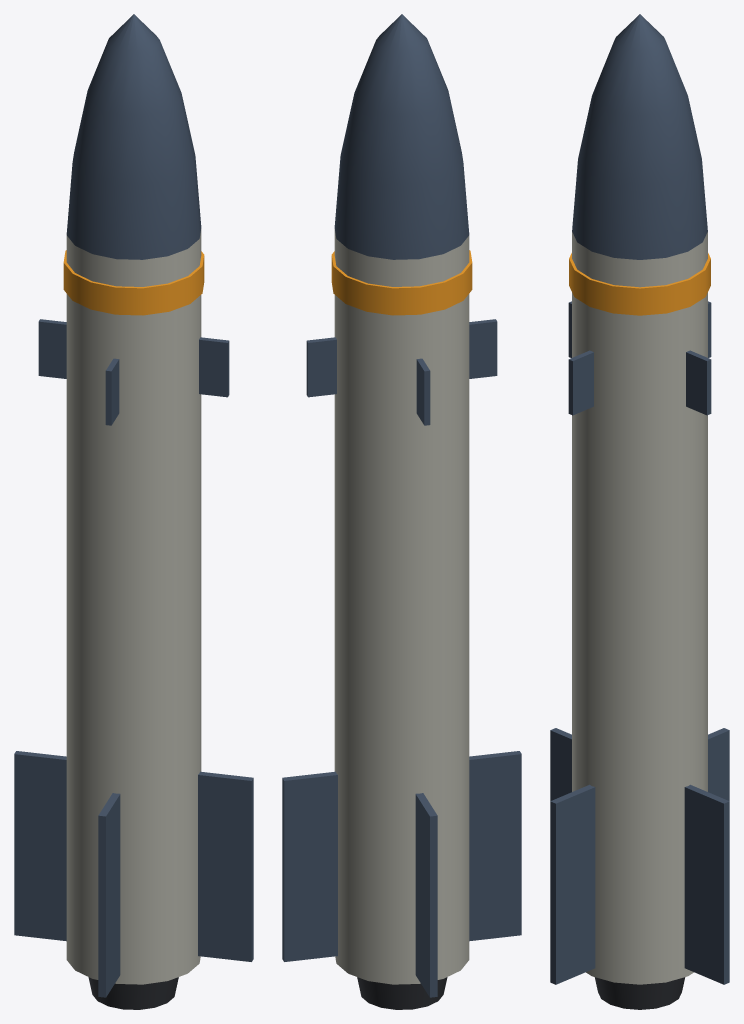
Rendered from mp8_missile_1.obj.
3 views of the same model, side by side, from view 1: azimuth 30°, elevation 25°; view 2: azimuth 150°, elevation 25°; view 3: azimuth 270°, elevation 25° (orthographic).
Visible parts, largest first — view 1: mp8_missile_1; view 2: mp8_missile_1; view 3: mp8_missile_1.
Boxes of the visible parts, x1,y1,x2,y2 form: mp8_missile_1: (14, 14, 253, 1009); mp8_missile_1: (282, 14, 521, 1009); mp8_missile_1: (550, 14, 729, 1009).
Size of the model in its own units: 0.1796 by 1.08 by 0.1796.
